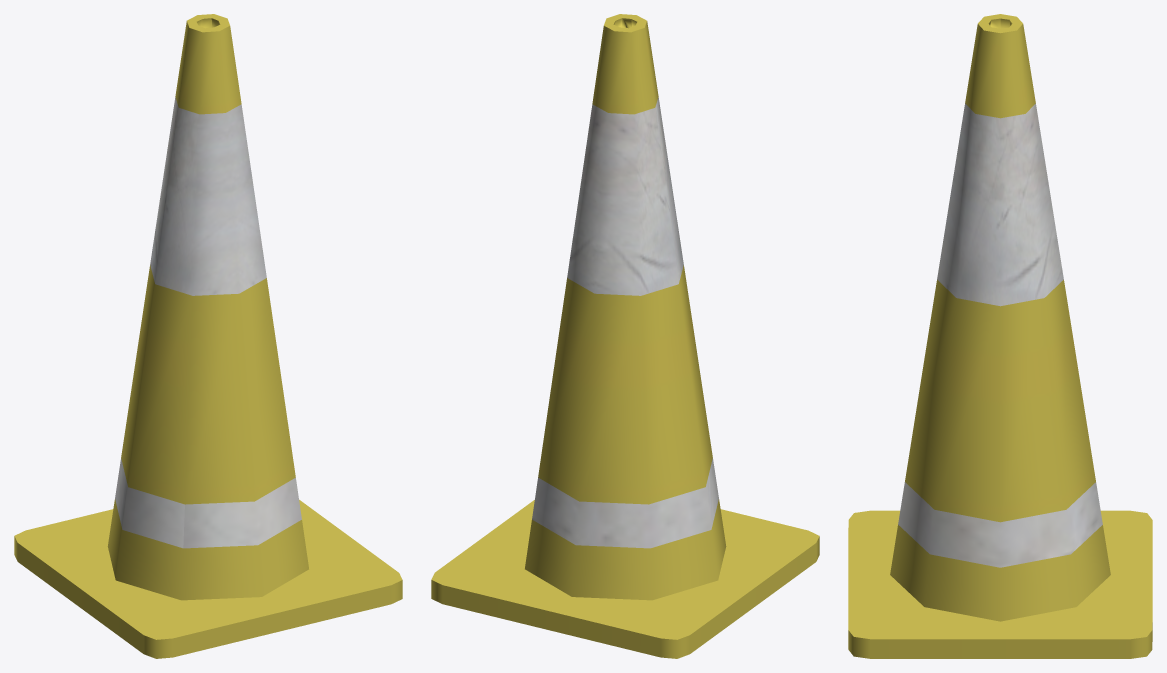
The model's file is sssss.fbx.
3 renders of one model, left to right at view 1: azimuth 30°, elevation 25°; view 2: azimuth 150°, elevation 25°; view 3: azimuth 270°, elevation 25°, orthographic. The views are drawn at different scales.
Parts seen in each view (by area): view 1: objPylon__44_1.003; view 2: objPylon__44_1.003; view 3: objPylon__44_1.003.
Part boxes in pixels (x1=…): objPylon__44_1.003: x1=14, y1=14, x2=402, y2=658; objPylon__44_1.003: x1=431, y1=14, x2=819, y2=658; objPylon__44_1.003: x1=848, y1=14, x2=1152, y2=658.
Size of the model in its own units: 7.97 by 16.49 by 7.97.
